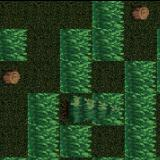Obstacle: (61, 93, 92, 124), (124, 0, 157, 28), (0, 61, 27, 93)
Slow: (125, 60, 156, 160), (59, 28, 92, 92), (27, 93, 58, 160), (92, 0, 126, 60), (92, 92, 124, 124), (60, 125, 92, 156), (0, 28, 27, 60)
